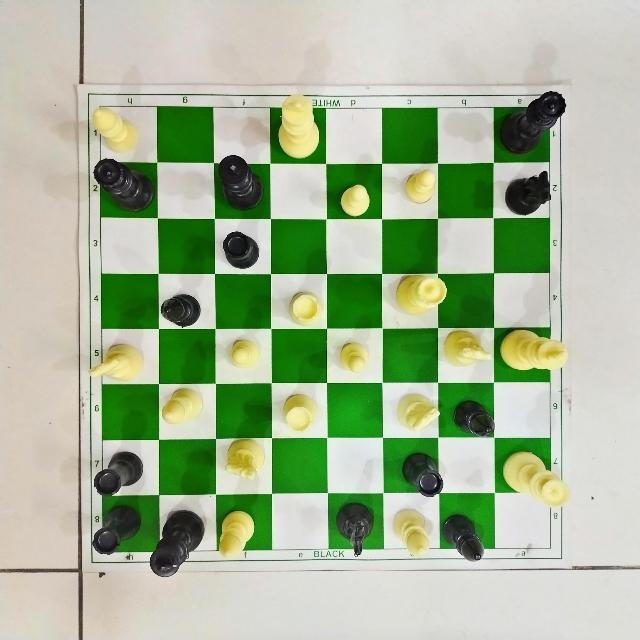black-bishop: (440, 508, 491, 567), (451, 394, 498, 442), (158, 288, 201, 329)
black-king: (148, 503, 205, 578), (216, 151, 268, 214)
black-knight: (333, 500, 385, 560), (502, 168, 554, 219)
black-queen: (499, 83, 567, 156), (91, 156, 159, 213)
black-rook: (90, 504, 142, 556), (93, 450, 149, 498), (398, 449, 448, 499), (220, 227, 262, 271)
white-bishop: (87, 104, 146, 156), (214, 504, 258, 561), (390, 505, 434, 560), (158, 385, 208, 427)
white-king: (499, 322, 571, 377), (277, 92, 324, 160)
white-knight: (221, 435, 267, 485), (88, 343, 144, 384), (443, 326, 491, 370), (396, 393, 440, 437)
white-pawn: (403, 167, 439, 206), (338, 179, 372, 218), (340, 340, 373, 375), (228, 338, 260, 370)
white-queen: (497, 450, 570, 514), (394, 269, 447, 321)
white-rook: (281, 392, 318, 434), (287, 289, 324, 327)
